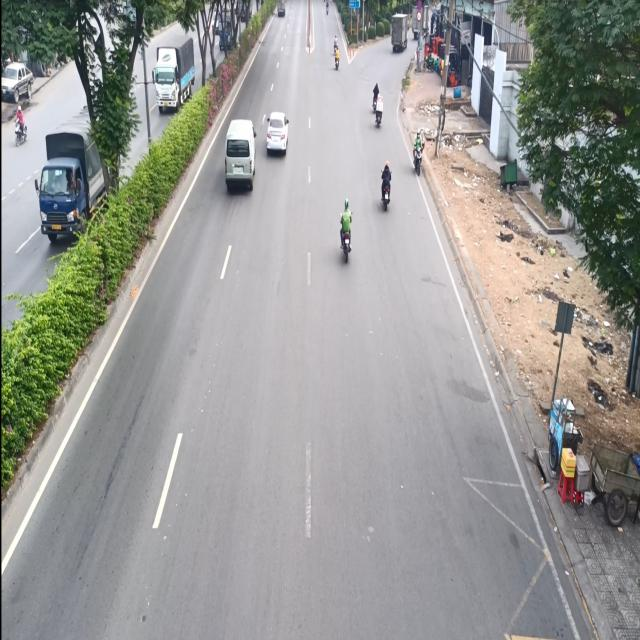car: (224, 113, 256, 198), (266, 103, 288, 160)
motor: (338, 190, 354, 264), (376, 158, 394, 218), (409, 124, 427, 184)
